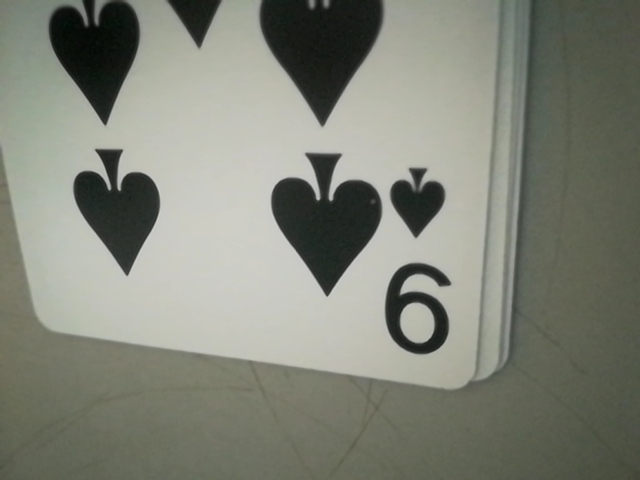ht 9: (378, 185, 466, 368)
